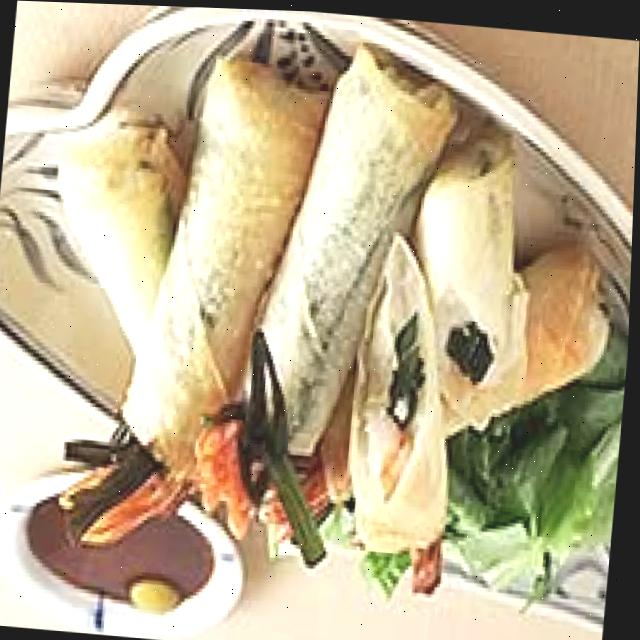鸡蛋料理: (28, 32, 620, 572)
